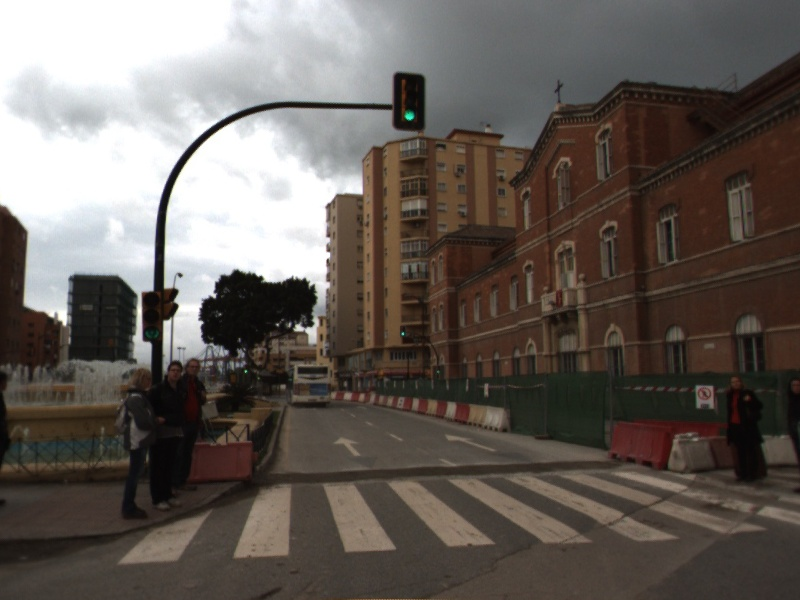STRAIGHT: (443, 432, 500, 454), (331, 435, 365, 458)
